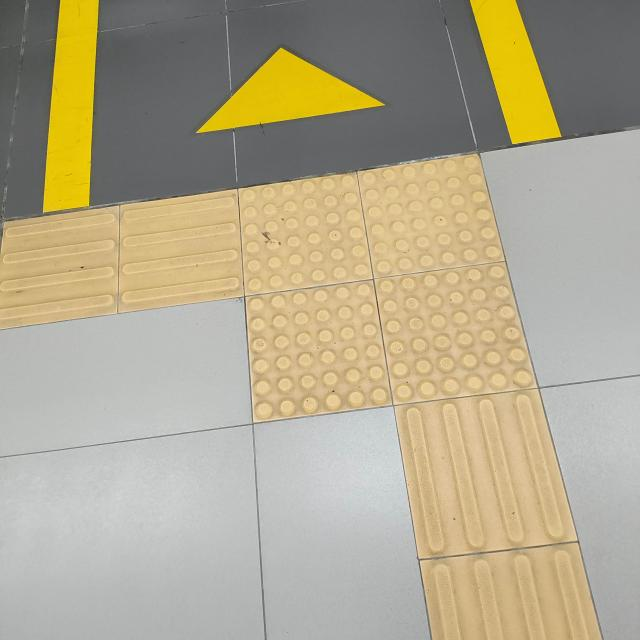kiri: (20, 140, 640, 458)
